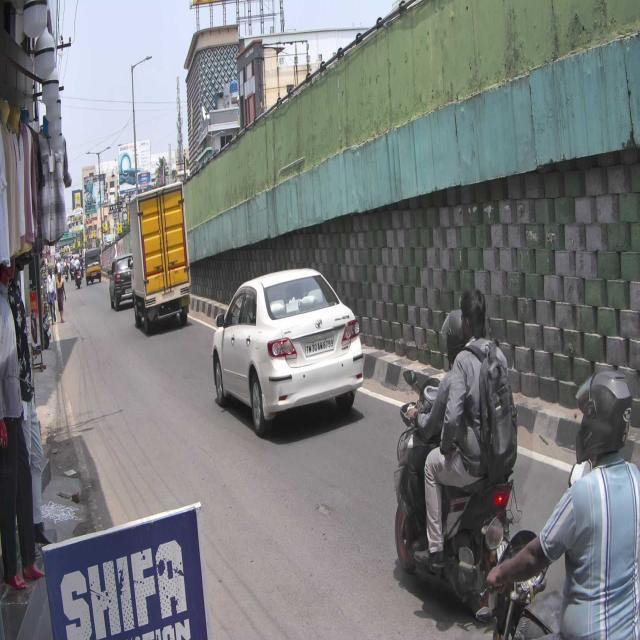double_rider: (392, 281, 520, 619)
